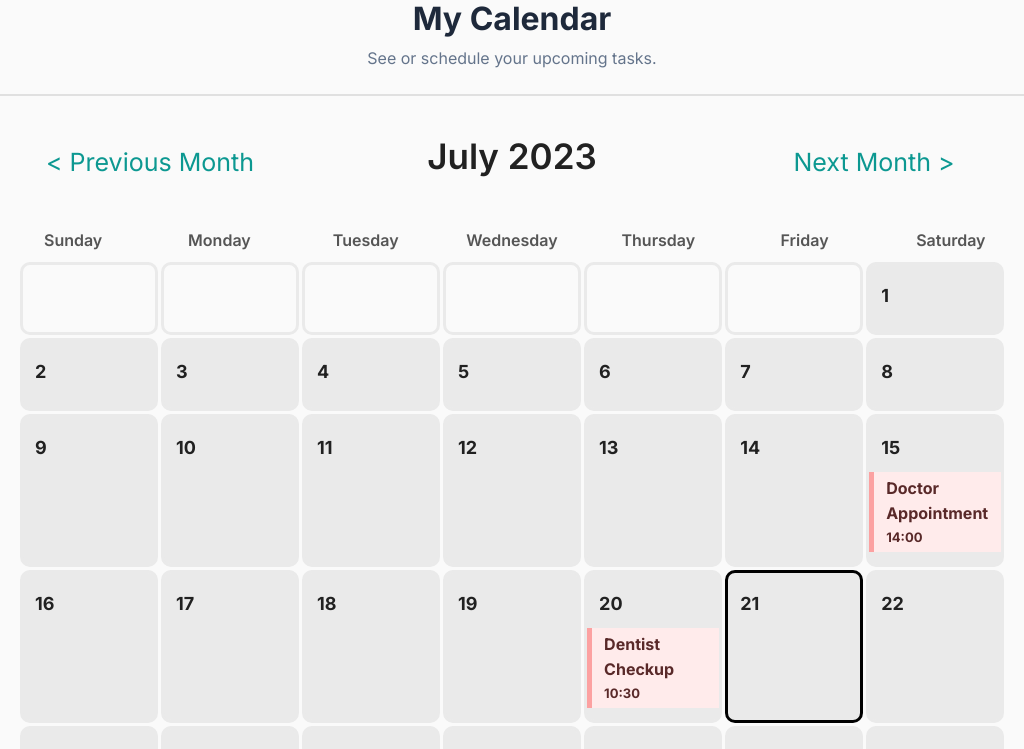
Calendar Component - Email Reminder Features › Test Reminder Button › displays test reminder button in edit mode
# Click on the event to open edit form
Click the text "Doctor Appointment". click: (938, 501)
box: [886,476,989,527]
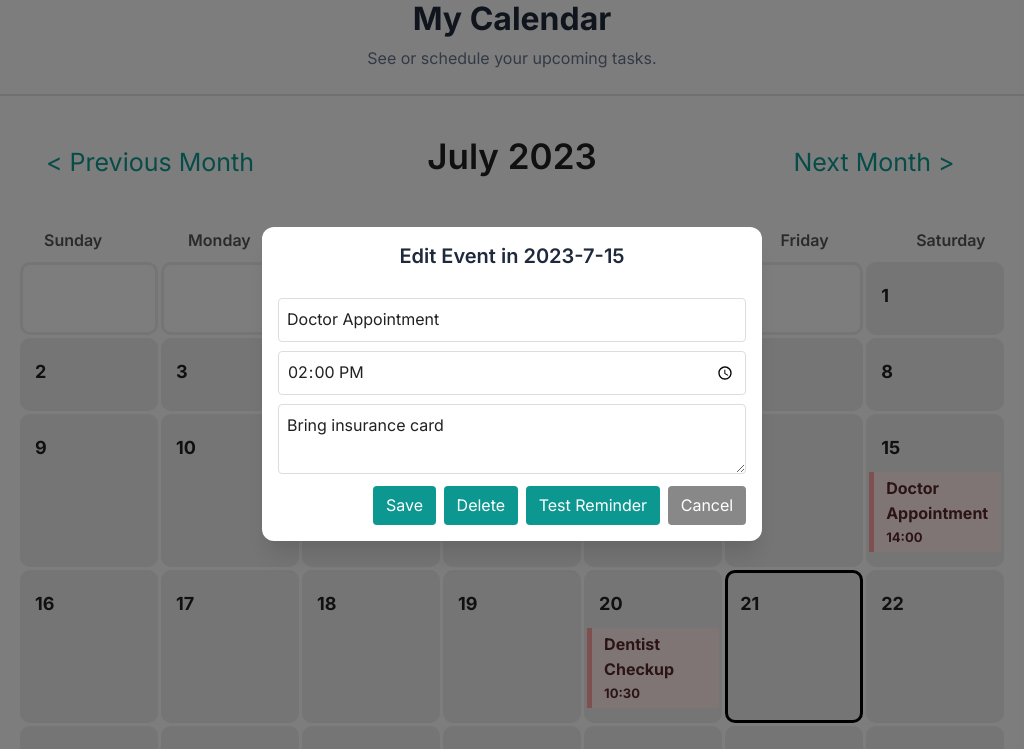
Now the button "Test Reminder" is shown, box [526,486,660,525]
